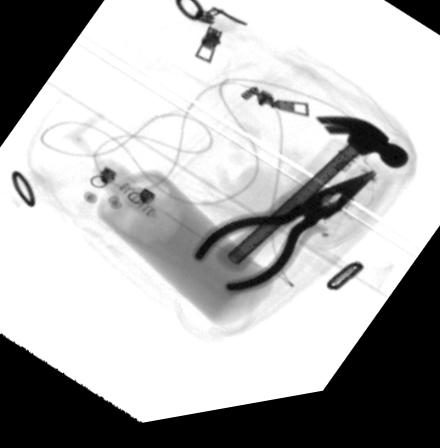Hammer: (216, 128, 408, 279)
Pliers: (192, 184, 375, 303)
